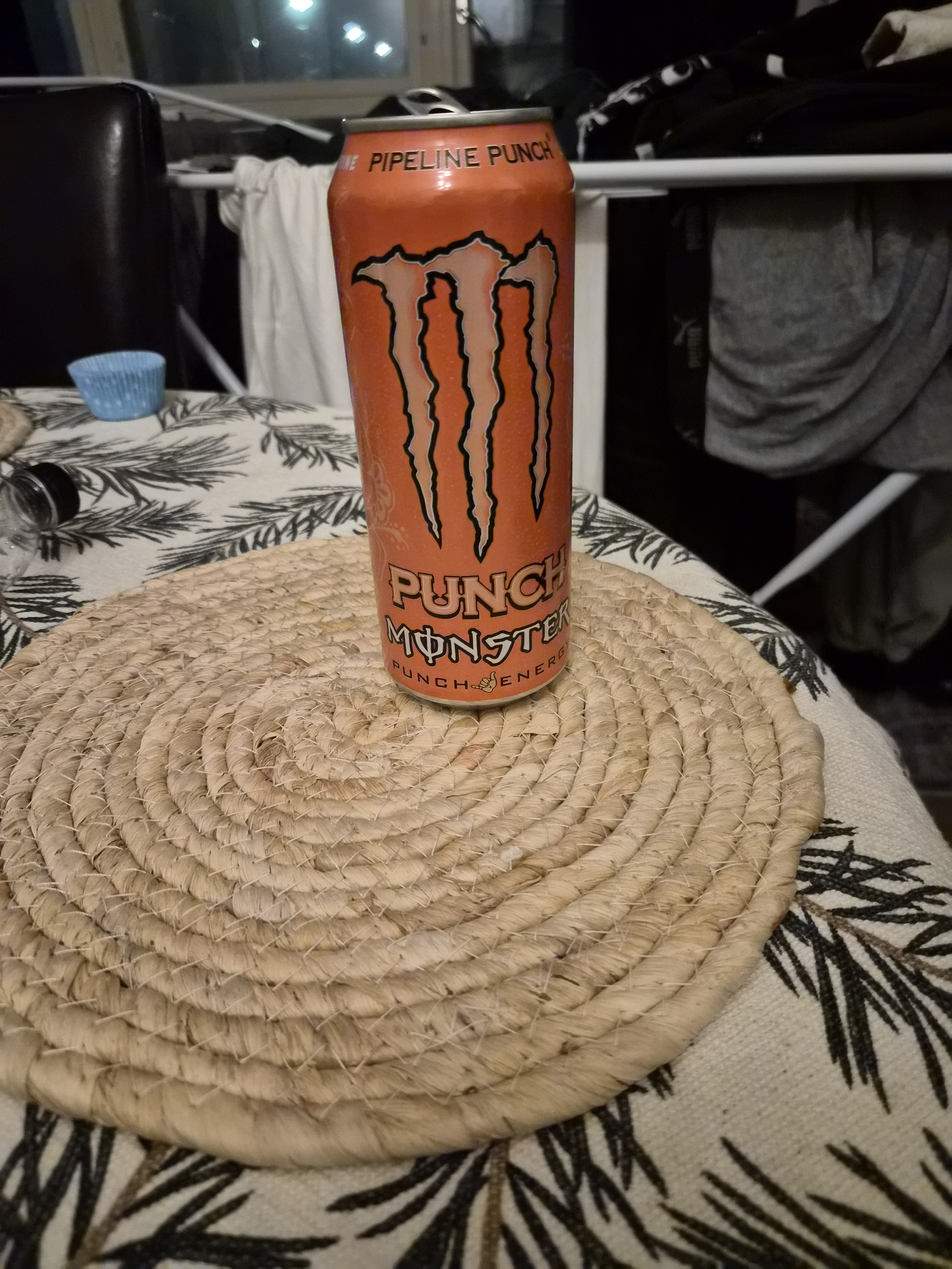Pantburk: (326, 107, 577, 709)
